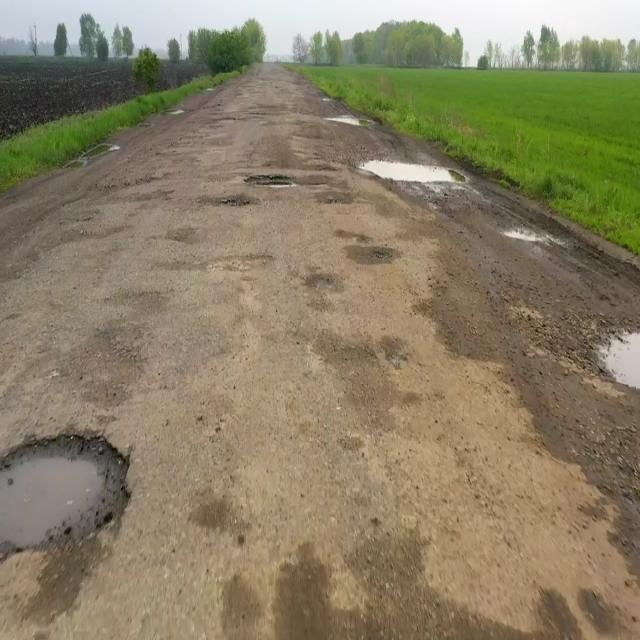Pothole: (0, 412, 143, 598), (350, 145, 506, 192), (494, 212, 617, 259), (196, 184, 262, 230), (316, 89, 380, 129), (240, 162, 321, 188)
